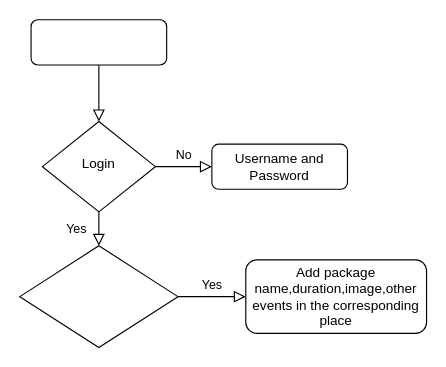
Image size: 446x367. Some labels were removed from this diagram. The centre of each missing label's shape, as x and y in pixels:
Admin: (x=98, y=42)
Entried to admin panel: (x=98, y=296)
